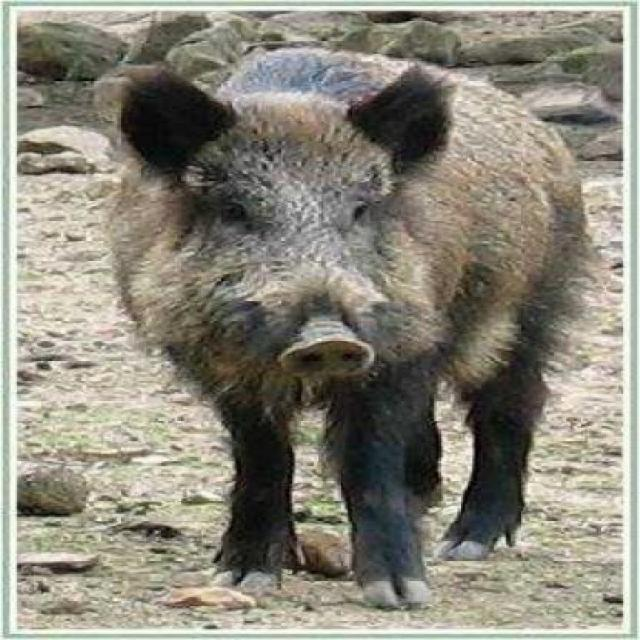pig: (98, 0, 599, 632)
